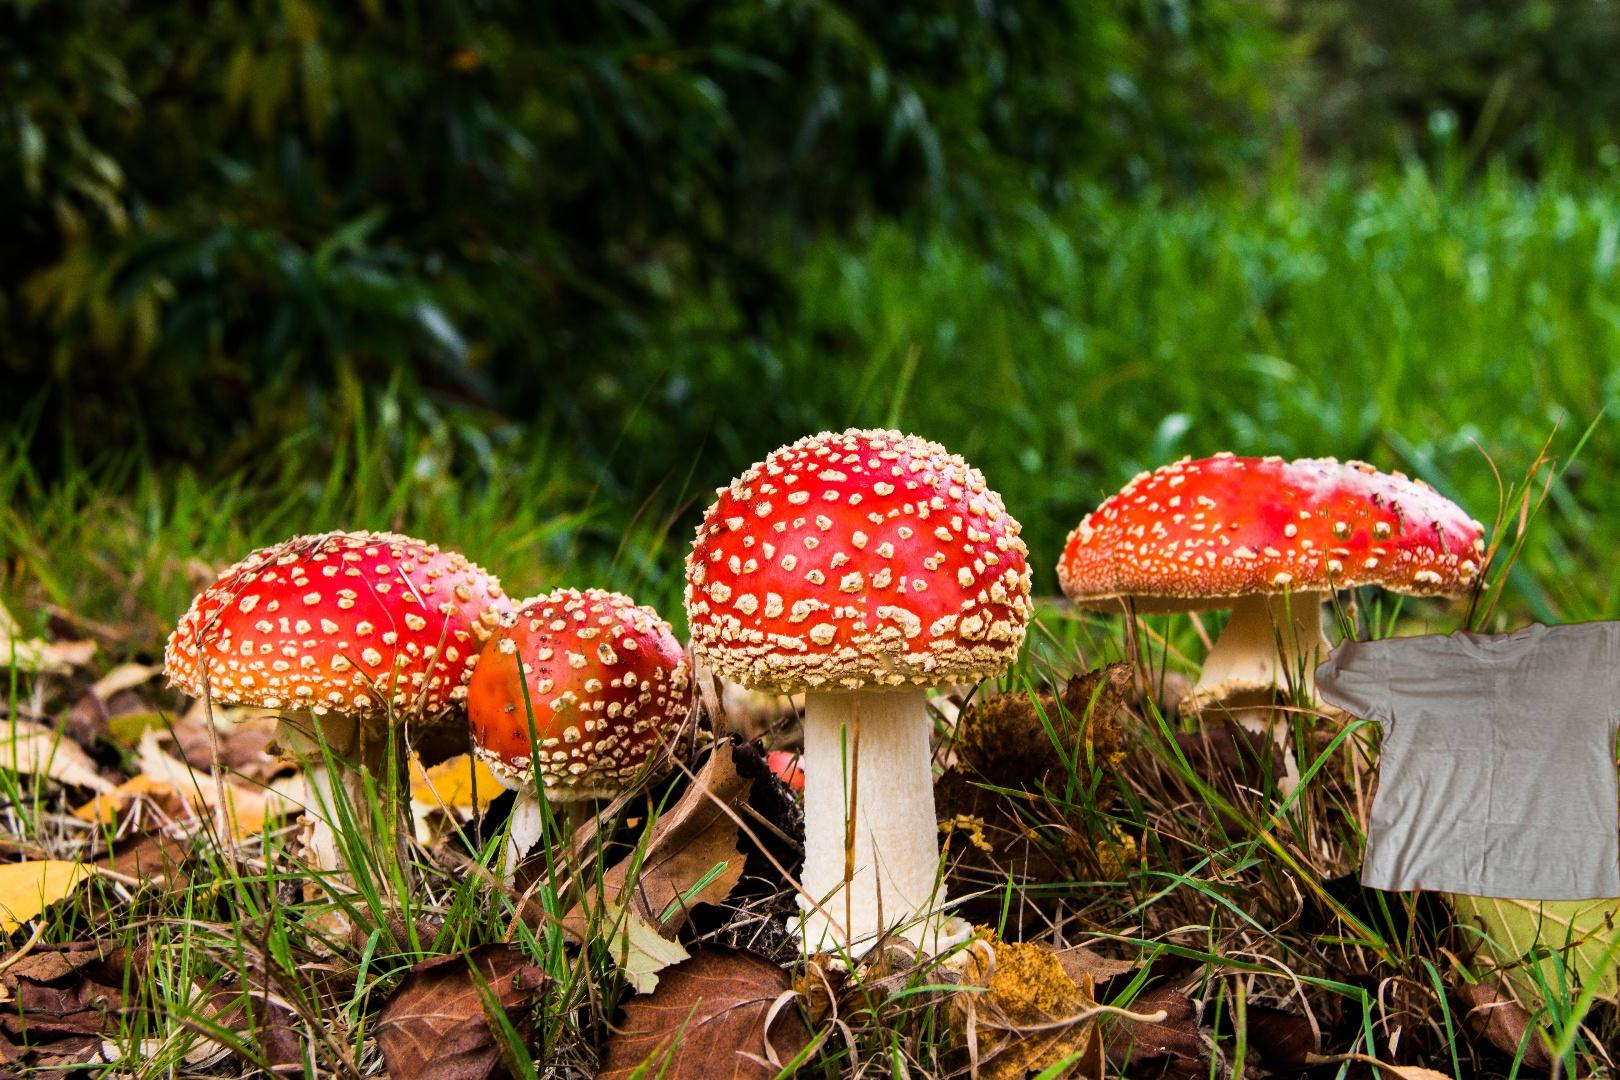clothes: (1311, 615, 1620, 906)
